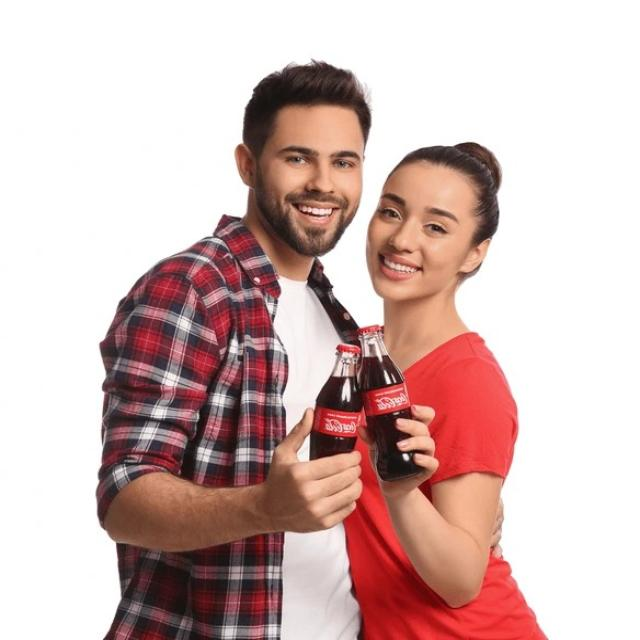coca cola: (316, 413, 361, 439)
